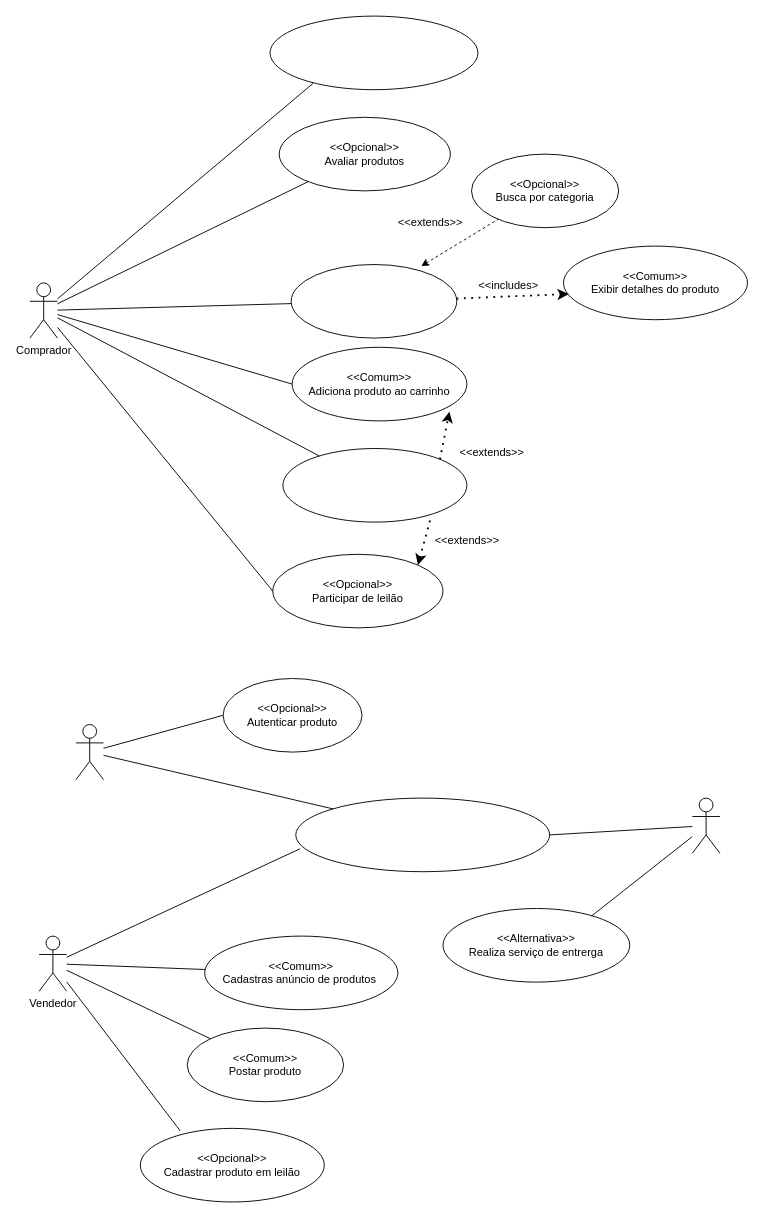
Some shapes in this 764 by 1218 pixel diagram are drawn without their labels. The box of each missing label's shape, as (x1, y1, x2, y2) in pixels:
<<Comum>> Realizar pagamento de compras: (282, 448, 467, 522)
<<Comum>> Receber pagamento por vendas ou serviços: (295, 797, 550, 872)
<<Comum>> Visualiza catálogo de produtos: (290, 264, 457, 338)
<<Opcional>> Conversar com atendentes do suporte: (269, 15, 478, 90)
Avaliador especialista: (75, 724, 104, 780)
Transportadora: (691, 797, 720, 853)
